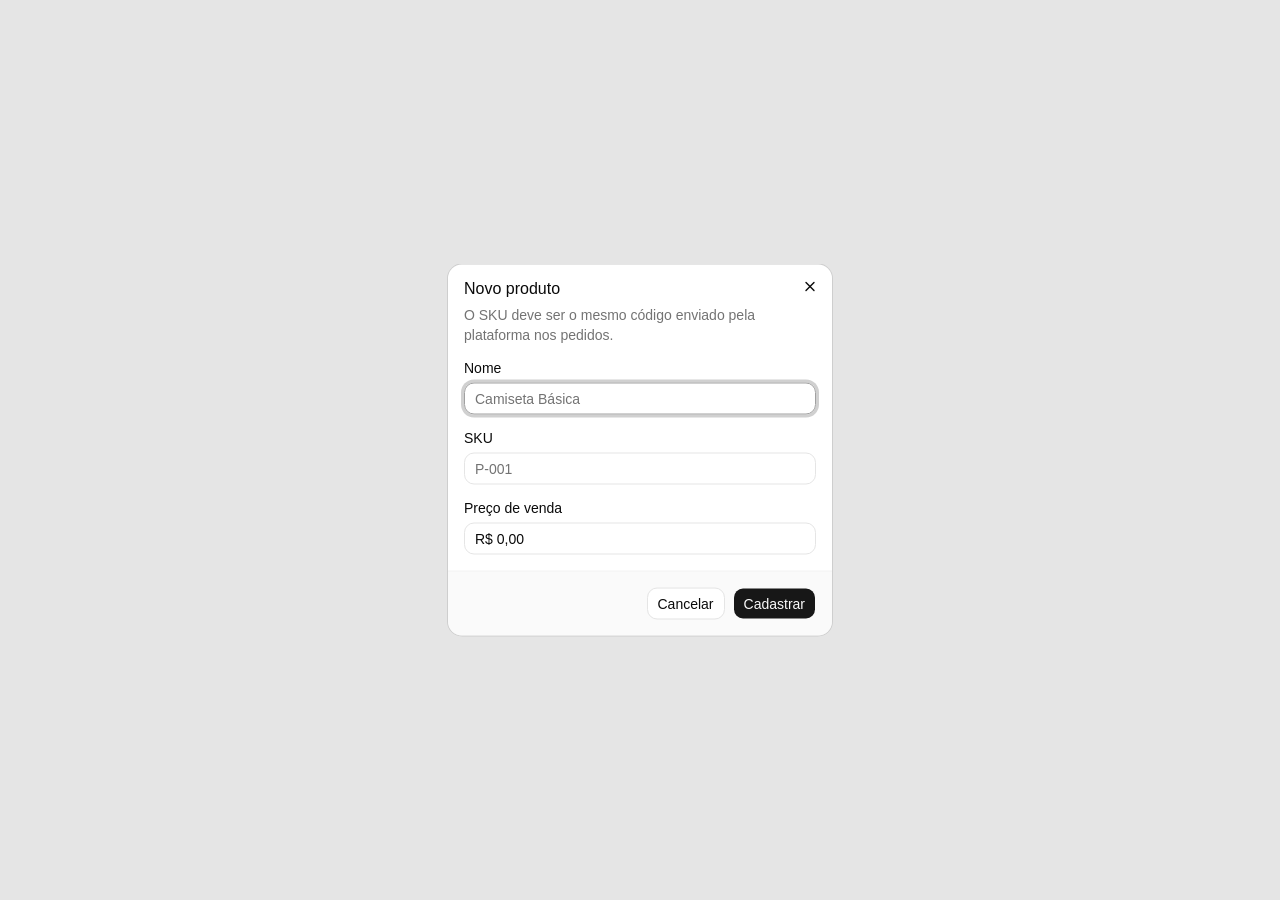
it: CreateProductDialog › validates the required fields
The image size is (1280, 900).
Step 1. Click the button "Cadastrar" → point(774, 604), box x1=732 y1=588 x2=816 y2=620
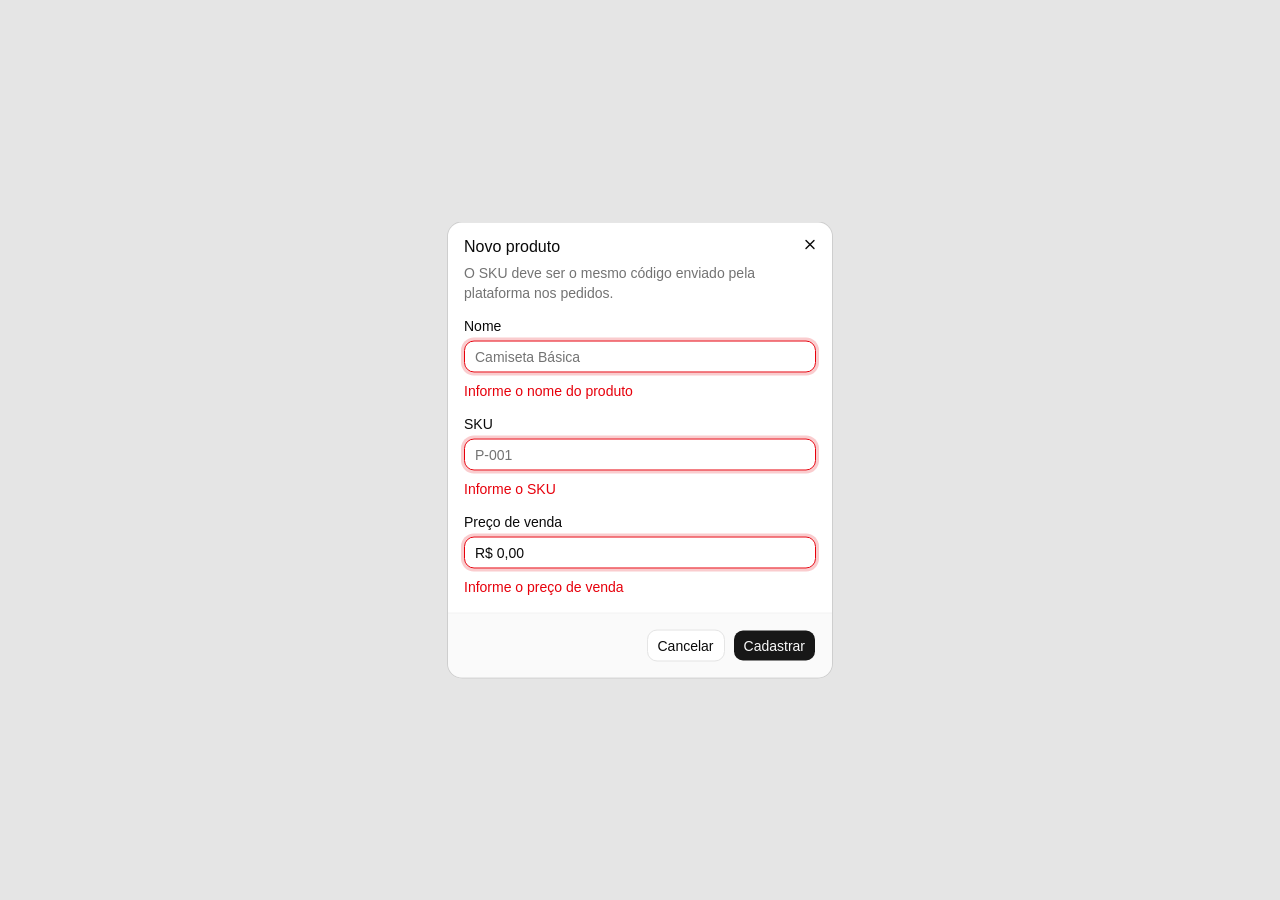
Now the text "Informe o nome do produto" is shown, box x1=464 y1=382 x2=633 y2=398
Now the text "Informe o SKU" is shown, box x1=464 y1=480 x2=556 y2=496
Now the text "Informe o preço de venda" is shown, box x1=464 y1=578 x2=624 y2=594
